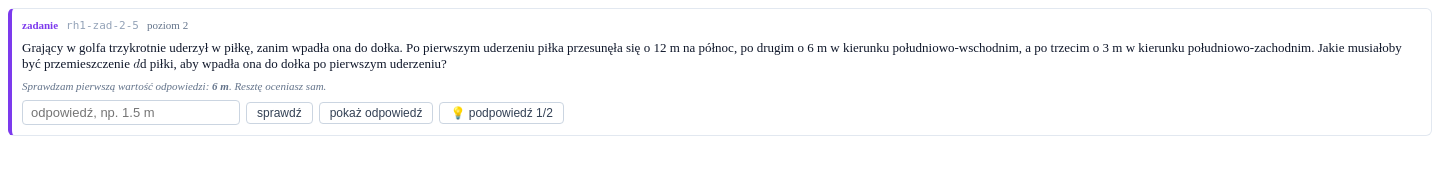
Test: zadanie 2-5 z Resnicka › podpowiedzi autora odsłaniają się pojedynczo
Click the button "💡 podpowiedź 1/2". click: (502, 112)
box: [439, 102, 564, 124]
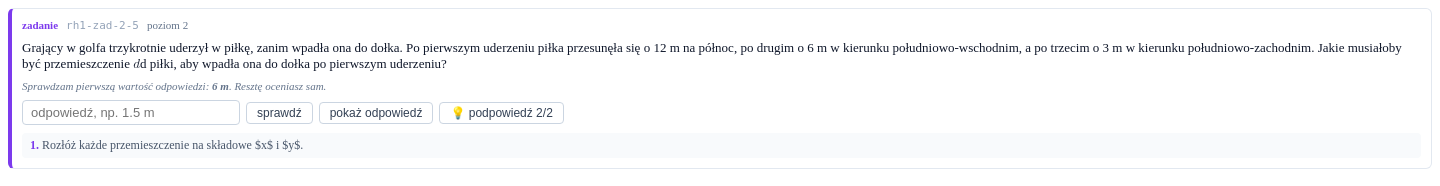
Expected: the text "Rozłóż każde przemieszczenie" is shown, [42, 138, 303, 152]
